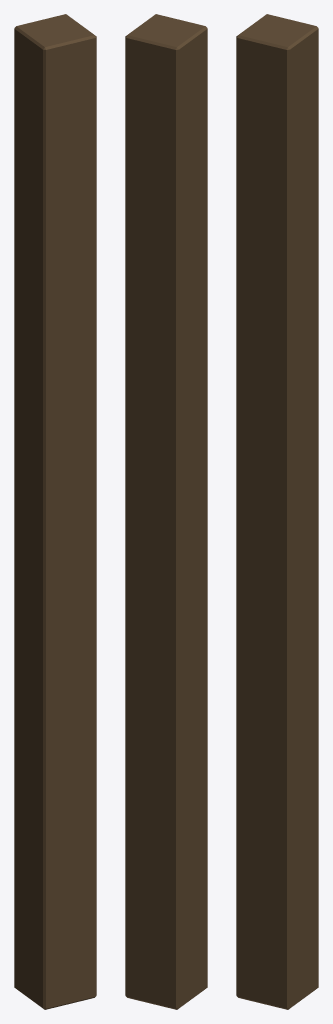
The model's file is door-post-lod1.fbx.
3 views of the same model, side by side, from view 1: azimuth 30°, elevation 25°; view 2: azimuth 150°, elevation 25°; view 3: azimuth 330°, elevation 25° (orthographic).
Visible parts, largest first — view 1: Planed structural upright, Flush decorative shoulder.003; view 2: Planed structural upright, Flush decorative shoulder; view 3: Planed structural upright, Flush decorative shoulder.003.
Boxes of the visible parts, <box> form: Planed structural upright: <box>14,14,96,1009</box>; Flush decorative shoulder.003: <box>54,112,87,139</box>; Planed structural upright: <box>125,14,207,1009</box>; Flush decorative shoulder: <box>134,906,167,934</box>; Planed structural upright: <box>236,14,318,1009</box>; Flush decorative shoulder.003: <box>245,112,278,139</box>.
Bounding box in the file's own units: 14 × 240 × 14.
